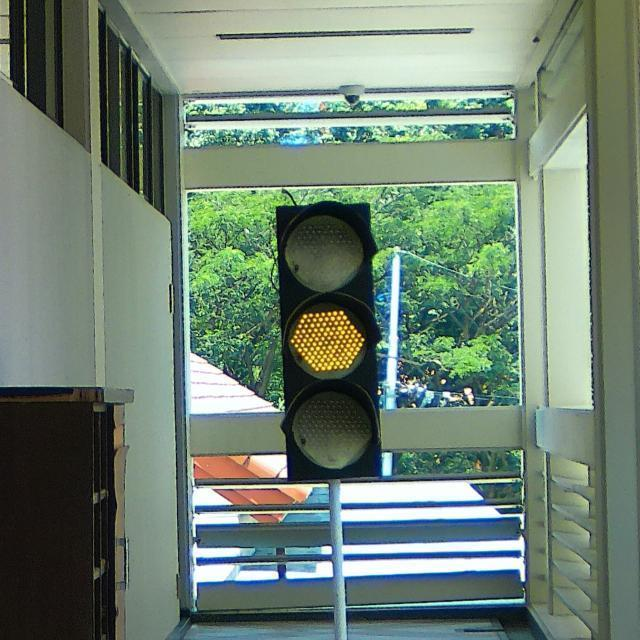yellow_light: (277, 201, 380, 481)
